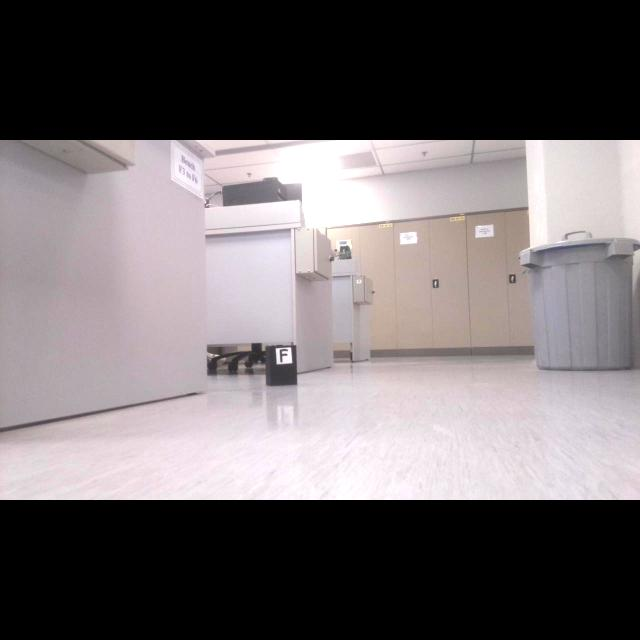F: (280, 349, 288, 363)
